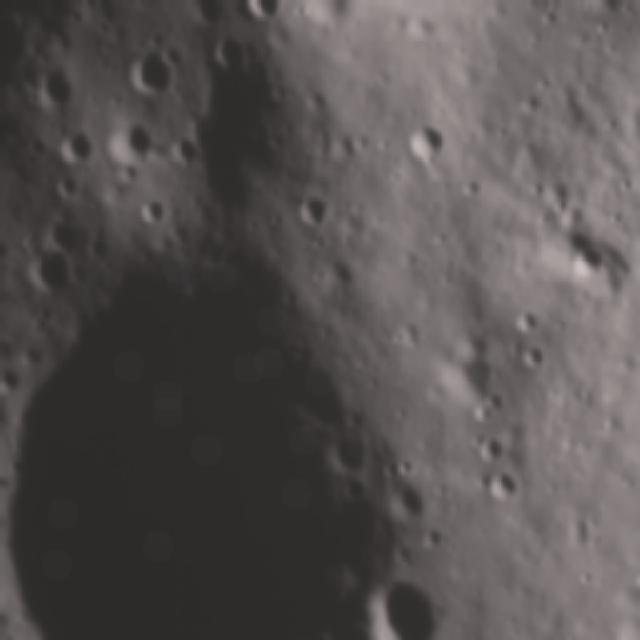crater: (21, 232, 405, 640), (368, 554, 444, 640), (23, 238, 92, 297), (120, 41, 182, 93), (106, 112, 159, 165), (206, 27, 259, 76), (403, 116, 455, 164), (34, 58, 78, 105), (482, 462, 521, 511), (246, 0, 296, 31), (57, 128, 94, 163)
